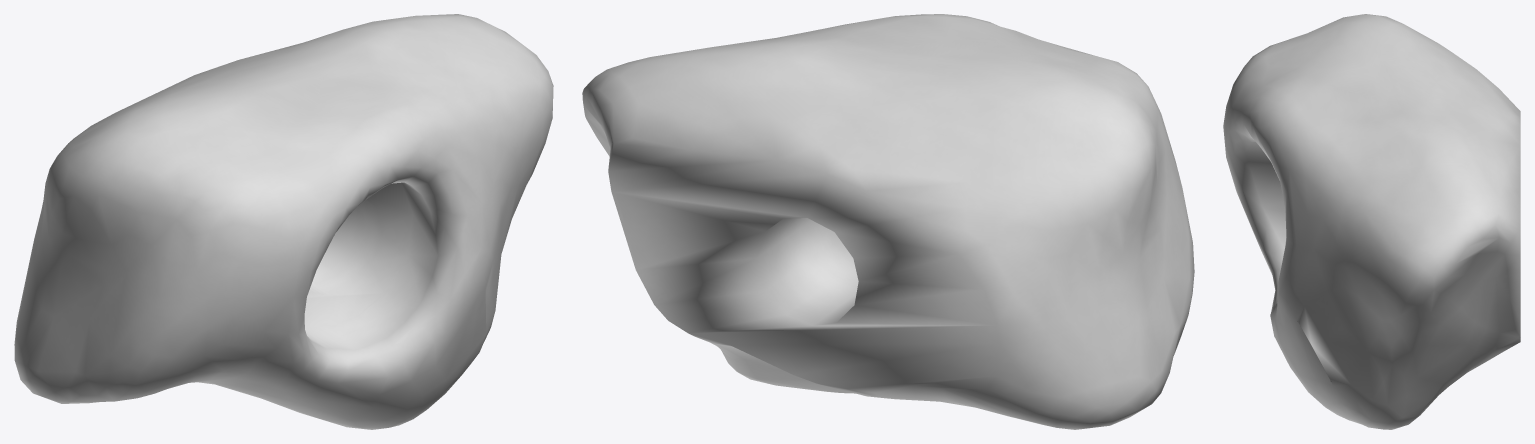
The model's file is Hold_6.glb.
3 views of the same model, side by side, from view 1: azimuth 30°, elevation 25°; view 2: azimuth 150°, elevation 25°; view 3: azimuth 270°, elevation 25° (orthographic). The views are drawn at different scales.
Visible parts, largest first — view 1: bh_5x5_36; view 2: bh_5x5_36; view 3: bh_5x5_36.
Boxes of the visible parts, x1,y1,x2,y2 form: bh_5x5_36: [14, 14, 553, 429]; bh_5x5_36: [582, 14, 1194, 429]; bh_5x5_36: [1223, 14, 1520, 429].
Bounding box in the file's own units: 0.2009 × 0.1275 × 0.1143.
1 material, 1 textured.
